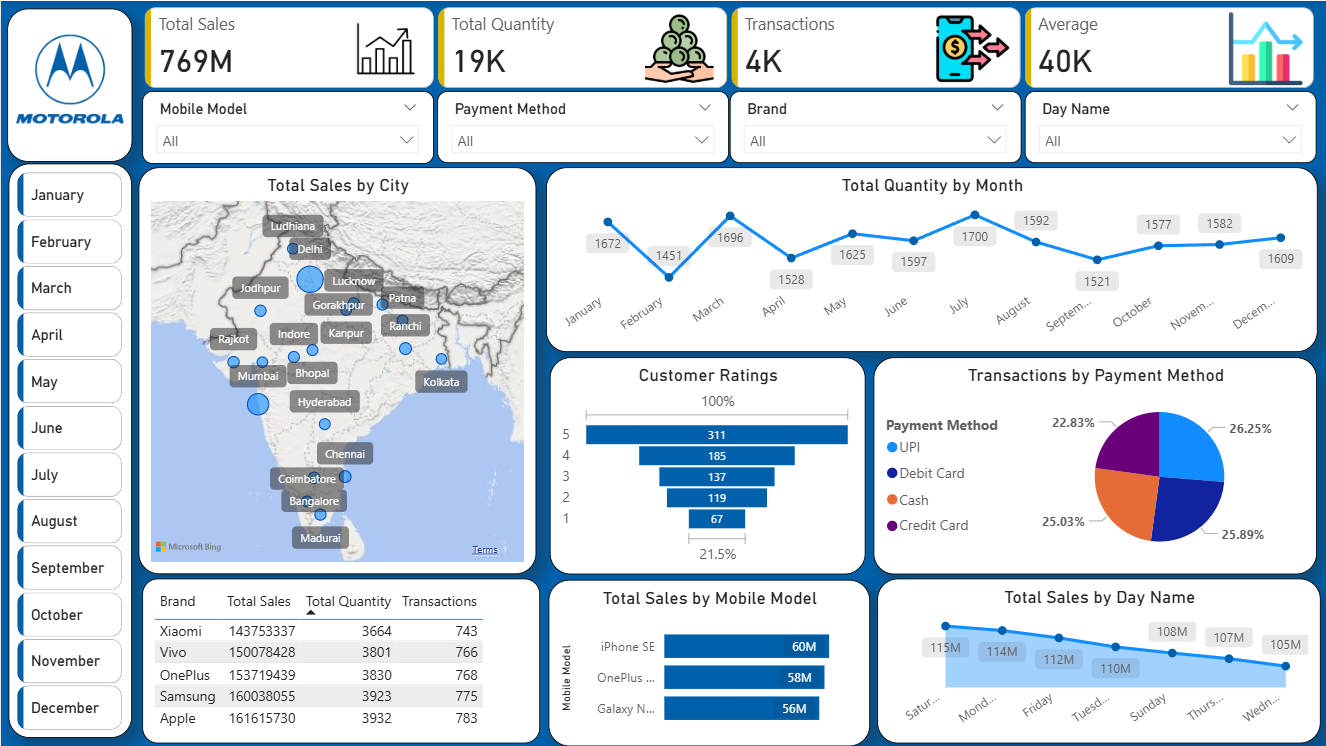

Layout of this report page (visuals, bound fields, positions):
{"tool":"powerbi","page":{"name":"Page 1","canvas":[1280,720],"ordinal":0},"visuals":[{"type":"shape","box":[5.5,6.9,120.8,148.2],"z":0},{"type":"image","box":[9.6,16.5,113.9,116.6],"z":1000},{"type":"shape","box":[6.9,156.4,119.4,554.4],"z":2000},{"type":"advancedSlicerVisual","fields":{"Values":["Sales_Data.Date.Variation.Date Hierarchy.Month"]},"box":[11,160.5,111.1,548.9],"z":3000},{"type":"cardVisual","fields":{"Data":["Sales_Data.Total Sales","Sales_Data.Total Quantity","Sales_Data.Transactions","Sales_Data.Average"]},"box":[134,5.6,1140.1,83.7],"z":4000},{"type":"map","fields":{"Category":["Sales_Data.City"],"Size":["Sales_Data.Total Sales"]},"box":[132.9,160.8,384.1,393.1],"z":5000},{"type":"lineChart","fields":{"Y":["Sales_Data.Total Quantity"],"Category":["Sales_Data.Date.Variation.Date Hierarchy.Month","Sales_Data.Date.Variation.Date Hierarchy.Day"]},"box":[525.9,160.8,744.8,178.7],"z":6000},{"type":"clusteredBarChart","fields":{"Category":["Sales_Data.Mobile Model"],"Y":["Sales_Data.Total Sales"]},"box":[528.3,558.5,310.1,160.5],"z":7000},{"type":"pieChart","fields":{"Category":["Sales_Data.Payment Method"],"Y":["Sales_Data.Transactions"]},"box":[842.5,344.4,428.1,209.9],"z":8000},{"type":"funnel","title":"Customer Ratings","fields":{"Category":["Sales_Data.Customer Ratings"],"Y":["Sum(Sales_Data.Customer Ratings)"]},"box":[529.7,344.4,304.6,209.9],"z":9000},{"type":"areaChart","fields":{"Category":["Sales_Data.Day Name"],"Y":["Sales_Data.Total Sales"]},"box":[845.3,557.1,428.1,159.2],"z":10000},{"type":"tableEx","fields":{"Values":["Sales_Data.Brand","Sales_Data.Total Sales","Sales_Data.Total Quantity","Sales_Data.Transactions"]},"box":[135.8,557.1,384.2,159.2],"z":11000},{"type":"slicer","fields":{"Values":["Sales_Data.Mobile Model"]},"box":[136.2,87.1,281.4,70.3],"z":12000},{"type":"slicer","fields":{"Values":["Sales_Data.Payment Method"]},"box":[421,87.1,281.4,69.2],"z":13000},{"type":"slicer","fields":{"Values":["Sales_Data.Brand"]},"box":[703.5,87.1,281.4,69.2],"z":14000},{"type":"slicer","fields":{"Values":["Sales_Data.Day Name"]},"box":[988.2,87.1,281.4,69.2],"z":15000}]}

Visuals, with their boxes in screenshot pixels (x1, y1, x2, y2), scaled from the page's 1280x720 canvas onto the 1326x746 screenshot:
shape: detection(6, 7, 131, 161)
image: detection(10, 17, 128, 138)
shape: detection(7, 162, 131, 736)
advancedSlicerVisual - Sales_Data.Date.Variation.Date Hierarchy.Month: detection(11, 166, 126, 735)
cardVisual - Sales_Data.Total Sales x Sales_Data.Total Quantity: detection(139, 6, 1320, 93)
map - Sales_Data.City x Sales_Data.Total Sales: detection(138, 167, 536, 574)
lineChart - Sales_Data.Total Quantity x Sales_Data.Date.Variation.Date Hierarchy.Month: detection(545, 167, 1316, 352)
clusteredBarChart - Sales_Data.Mobile Model x Sales_Data.Total Sales: detection(547, 579, 869, 745)
pieChart - Sales_Data.Payment Method x Sales_Data.Transactions: detection(873, 357, 1316, 574)
"Customer Ratings" funnel: detection(549, 357, 864, 574)
areaChart - Sales_Data.Day Name x Sales_Data.Total Sales: detection(876, 577, 1319, 742)
tableEx - Sales_Data.Brand x Sales_Data.Total Sales: detection(141, 577, 539, 742)
slicer - Sales_Data.Mobile Model: detection(141, 90, 433, 163)
slicer - Sales_Data.Payment Method: detection(436, 90, 728, 162)
slicer - Sales_Data.Brand: detection(729, 90, 1020, 162)
slicer - Sales_Data.Day Name: detection(1024, 90, 1315, 162)
